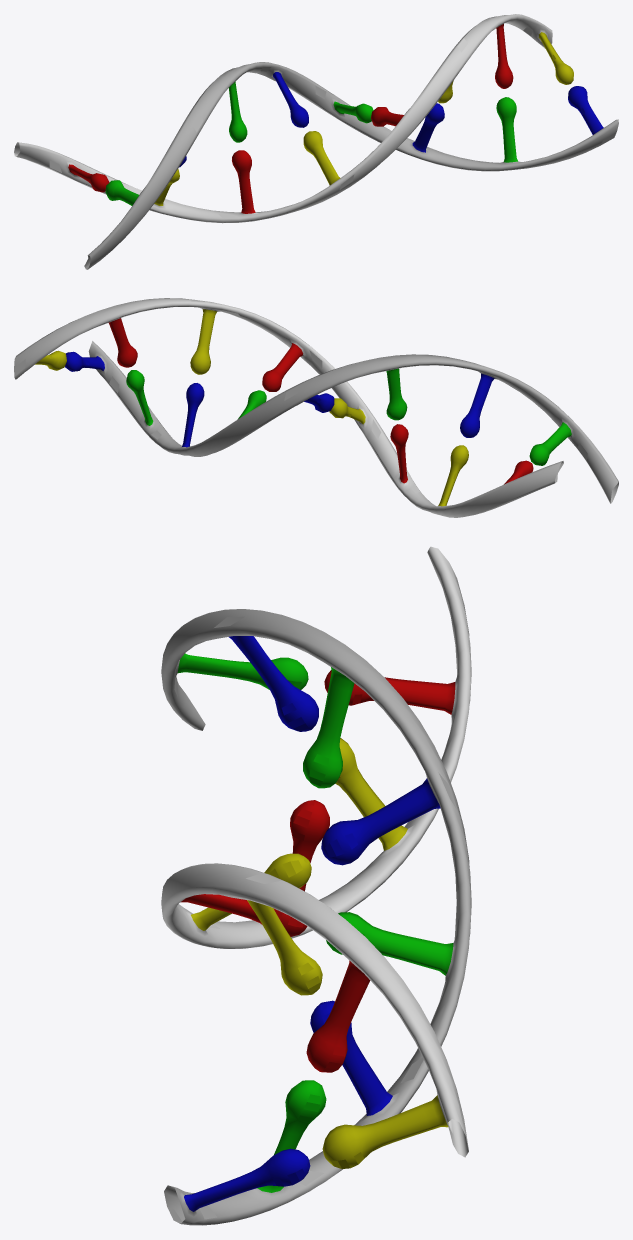
Rendered from DNA2.fbx.
3 views of the same model, one above another, from view 1: azimuth 30°, elevation 25°; view 2: azimuth 150°, elevation 25°; view 3: azimuth 270°, elevation 25° (orthographic). The views are drawn at different scales.
Parts seen in each view (by area): view 1: chromosome:edge193, chromosome:edge208, chromosome:edge211, chromosome:edge202, chromosome:edge207, chromosome:edge199, chromosome:edge198, chromosome:edge214, chromosome:edge204, chromosome:edge205, chromosome:T143, chromosome:edge196 (+10 smaller); view 2: chromosome:edge214, chromosome:edge199, chromosome:edge196, chromosome:edge205, chromosome:edge195, chromosome:edge193, chromosome:edge208, chromosome:edge213, chromosome:edge210, chromosome:edge204, chromosome:edge203, chromosome:edge212 (+14 smaller); view 3: chromosome:edge214, chromosome:edge199, chromosome:edge205, chromosome:edge196, chromosome:edge208, chromosome:edge193, chromosome:C179, chromosome:T139, chromosome:G169, chromosome:T135, chromosome:A143, chromosome:G174 (+16 smaller).
Part boxes in pixels (bbox=[...]): chromosome:edge193: bbox=[84, 107, 204, 269]; chromosome:edge208: bbox=[350, 38, 472, 186]; chromosome:edge211: bbox=[437, 119, 618, 171]; chromosome:edge202: bbox=[175, 170, 354, 223]; chromosome:edge207: bbox=[285, 71, 437, 159]; chromosome:edge199: bbox=[193, 62, 286, 124]; chromosome:edge198: bbox=[16, 146, 175, 213]; chromosome:edge214: bbox=[462, 14, 552, 53]; chromosome:edge204: bbox=[167, 199, 267, 218]; chromosome:edge205: bbox=[286, 67, 438, 164]; chromosome:T143: bbox=[497, 98, 517, 162]; chromosome:edge196: bbox=[14, 142, 175, 216]; chromosome:edge214: bbox=[14, 298, 194, 379]; chromosome:edge199: bbox=[283, 354, 473, 412]; chromosome:edge196: bbox=[429, 461, 563, 517]; chromosome:edge205: bbox=[173, 389, 287, 456]; chromosome:edge195: bbox=[470, 369, 616, 501]; chromosome:edge193: bbox=[469, 363, 618, 503]; chromosome:edge208: bbox=[188, 300, 356, 398]; chromosome:edge213: bbox=[88, 344, 181, 447]; chromosome:edge210: bbox=[194, 307, 355, 407]; chromosome:edge204: bbox=[351, 396, 435, 506]; chromosome:edge203: bbox=[367, 419, 398, 477]; chromosome:edge212: bbox=[109, 364, 141, 420]; chromosome:edge214: bbox=[244, 880, 468, 1157]; chromosome:edge199: bbox=[227, 610, 463, 826]; chromosome:edge205: bbox=[384, 796, 471, 1119]; chromosome:edge196: bbox=[399, 546, 471, 862]; chromosome:edge208: bbox=[161, 863, 287, 941]; chromosome:edge193: bbox=[161, 609, 261, 730]; chromosome:C179: bbox=[362, 1095, 448, 1151]; chromosome:T139: bbox=[326, 912, 453, 975]; chromosome:G169: bbox=[357, 778, 440, 843]; chromosome:T135: bbox=[303, 667, 354, 788]; chromosome:A143: bbox=[306, 960, 370, 1072]; chromosome:G174: bbox=[342, 1035, 392, 1115].
Bounding box in the file's own units: 3.8 × 1.01 × 0.949.
